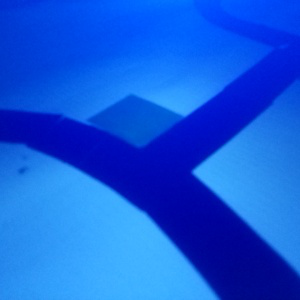top_right: (87, 94, 186, 175)
